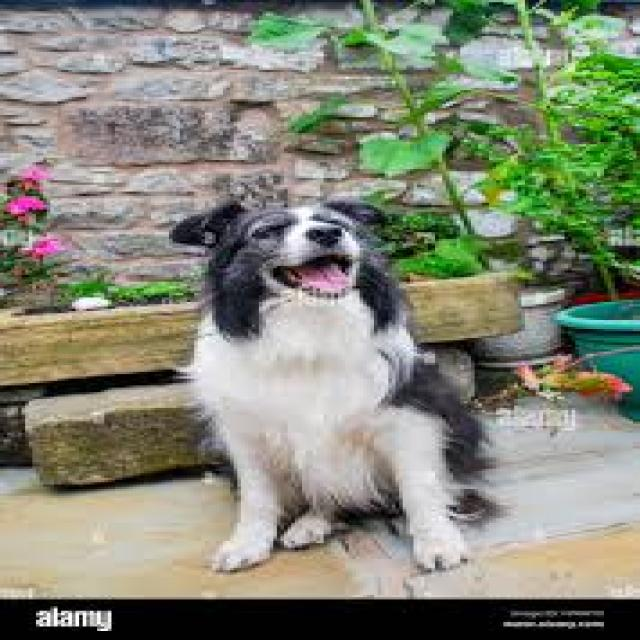BORDER_COLLIE: (158, 184, 508, 584)
